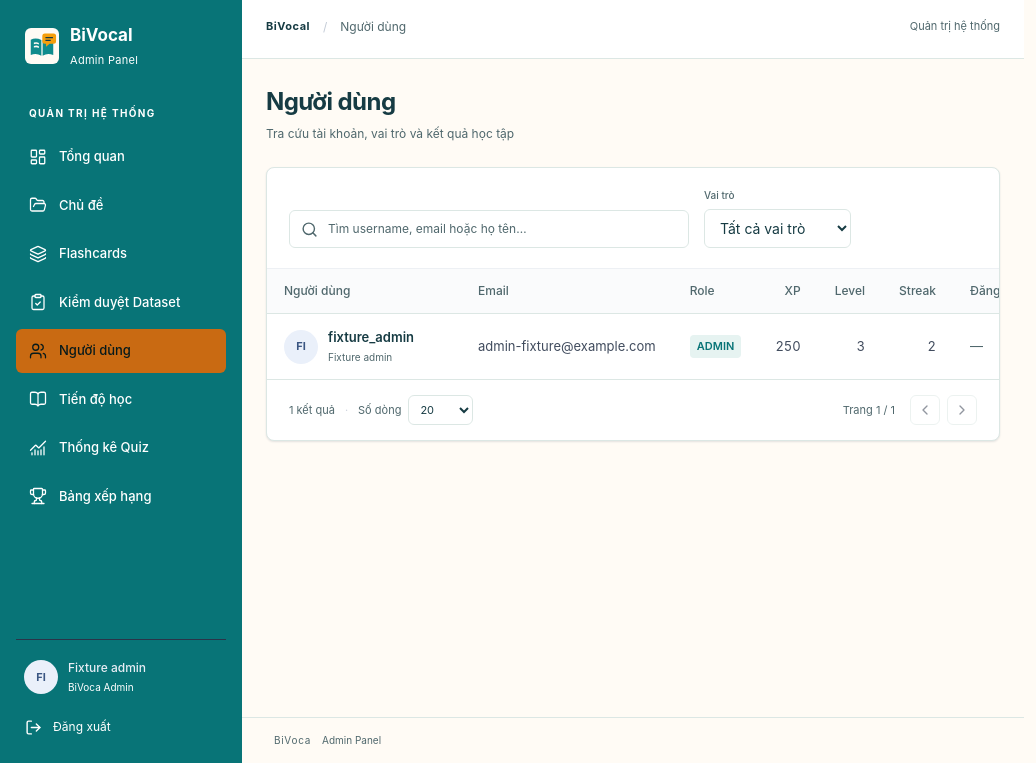
Test: Admin routes and real UI contracts against isolated fetch fixtures › user page maps username/email/role/XP and detail blocks own role change
The width and height of the screenshot is (1036, 763).
Expected: the text "admin-fixture@example.com" is shown, [478, 338, 656, 354]
Click the link "fixture_admin" at (371, 337), box [328, 329, 414, 345]
(page scrolled)
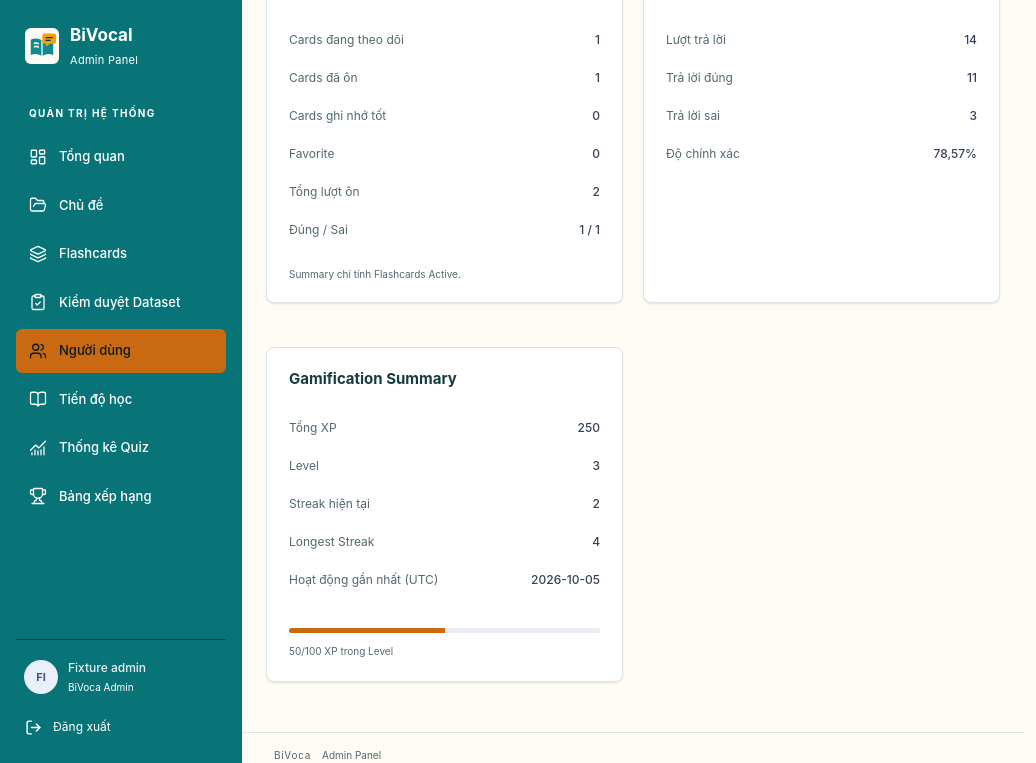
Result: the heading "Gamification Summary" is shown at [289, 369, 457, 388]
